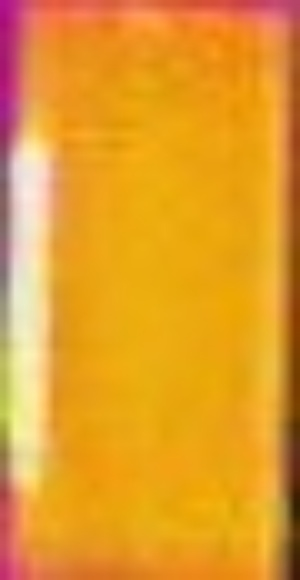Diode: (2, 130, 60, 506)
